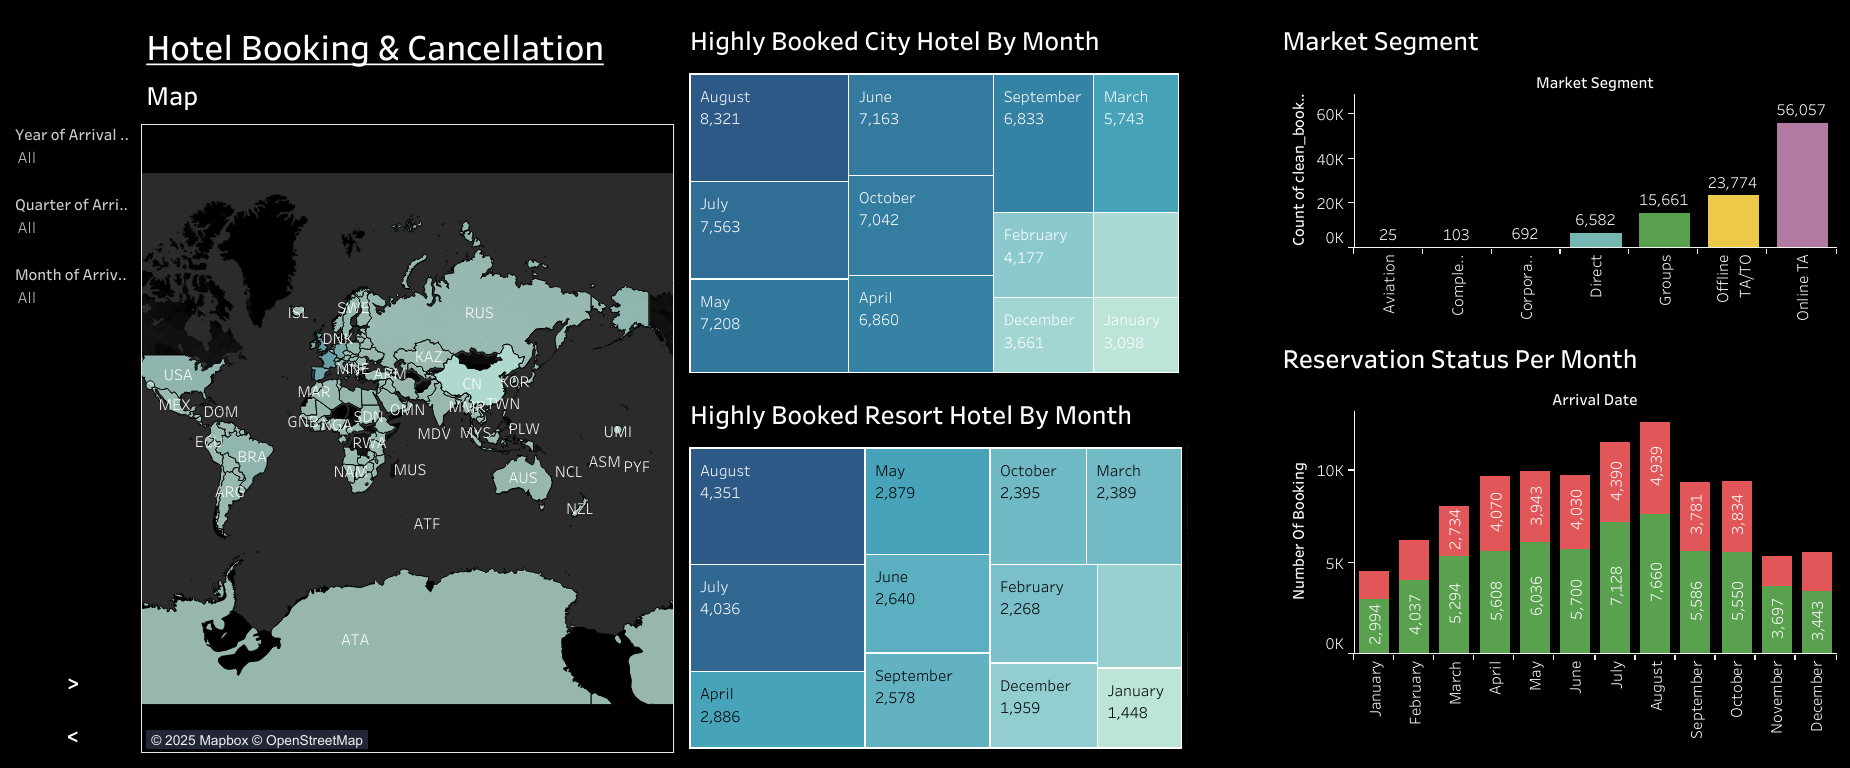

This screenshot's page, from the dashboard's own definition file:
{"tool":"tableau","page":{"name":"Dashboard 1","canvas":[1000,1000],"units":"permille","ordinal":0},"visuals":[{"type":"blank","box":[4.8,10,68.2,139.8]},{"type":"worksheet","title":"Hotel Booking & Cancellation","mark":"Automatic","box":[73,10,294.4,72.3]},{"type":"worksheet","title":"Highly Booked City Hotel By Month","mark":"Automatic","box":[367.4,10,320.3,489.8]},{"type":"worksheet","title":"Market Segment","mark":"Automatic","rows":["clean_bookings_N.csv_2A92645110184E679DB10E99B6738FB7"],"cols":["market_segment"],"box":[687.7,10,307.5,415.5]},{"type":"worksheet","title":"Map ","mark":"Multipolygon","box":[73,82.3,294.4,907.8]},{"type":"filter","title":"Map ","param":"[federated.12r8qis0b0qzga11as1uw1alcct8].[yr:arrival_date:ok]","box":[4.8,149.7,68.2,76.2]},{"type":"filter","title":"Map ","param":"[federated.12r8qis0b0qzga11as1uw1alcct8].[qr:arrival_date:ok]","box":[4.8,225.9,68.2,76.2]},{"type":"filter","title":"Map ","param":"[federated.12r8qis0b0qzga11as1uw1alcct8].[mn:arrival_date:ok]","box":[4.8,302.1,68.2,84.9]},{"type":"worksheet","title":"Reservation Status Per Month","mark":"Bar","rows":["clean_bookings_N.csv_2A92645110184E679DB10E99B6738FB7"],"cols":["arrival_date"],"box":[687.7,425.5,307.5,564.5]},{"type":"worksheet","title":"Highly Booked Resort Hotel By Month","mark":"Automatic","box":[367.4,499.8,320.3,490.2]},{"type":"dashboard-object","box":[4.8,870,68.2,57.4]},{"type":"dashboard-object","box":[4.8,927.4,68.2,62.6]}]}

Visuals, with their boxes on the dashboard's canvas, which has no fixed pixel size, in thousandths of its width and height (x1, y1, x2, y2). These are canvas units, not pixel positions in the 1850x768 screenshot, which may show the page scaled, cropped or inside an application window:
blank: 5 10 73 150
"Hotel Booking & Cancellation" worksheet: 73 10 367 82
"Highly Booked City Hotel By Month" worksheet: 367 10 688 500
"Market Segment" worksheet: 688 10 995 426
"Map " worksheet (Multipolygon marks): 73 82 367 990
"Map " filter: 5 150 73 226
"Map " filter: 5 226 73 302
"Map " filter: 5 302 73 387
"Reservation Status Per Month" worksheet (Bar marks): 688 426 995 990
"Highly Booked Resort Hotel By Month" worksheet: 367 500 688 990
dashboard-object: 5 870 73 927
dashboard-object: 5 927 73 990
